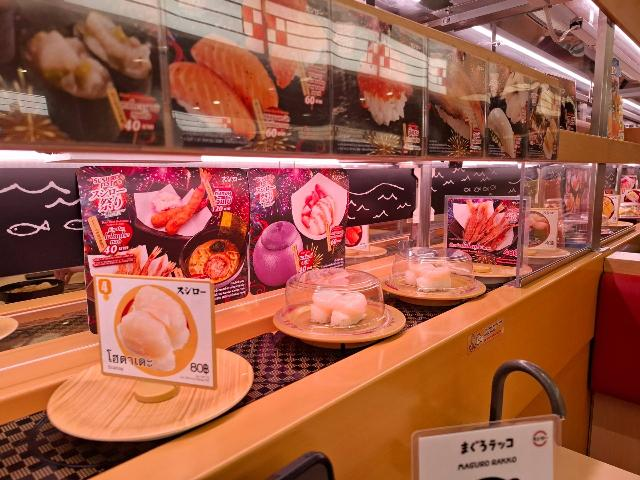jangold: (358, 224, 484, 302), (267, 284, 400, 355)
